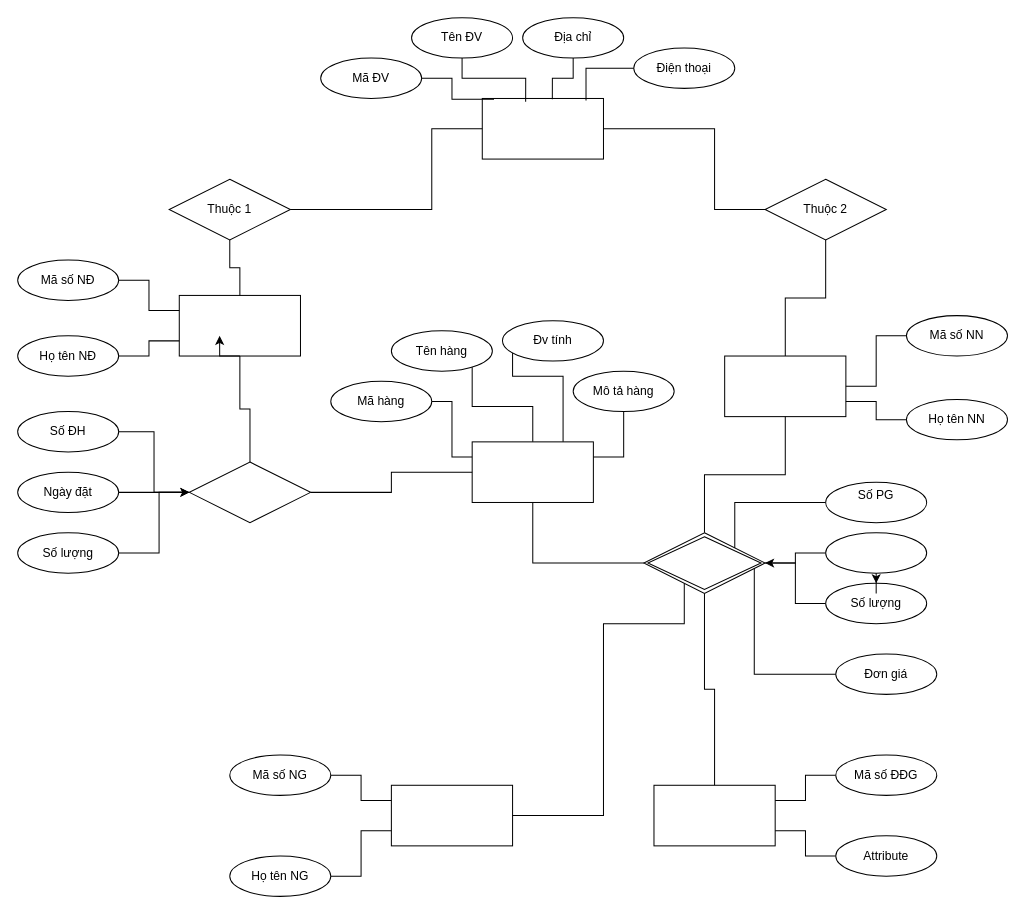
This 1025x914 diagram has some shape labels left out. Here are the shapes that lost their labels. From the top down, the centre of each, then its label:
At (542,128): "ĐƠN VỊ KHÁCH".
At (239,325): "NGƯỜI ĐẶT".
At (785,386): "NGƯỜI NHẬN".
At (532,471): "HÀNG".
At (249,492): "Đặt".
At (704,562): "Giao".
At (876,552): "Ngày giao".
At (451,815): "NGƯỜI GIAO".
At (714,815): "NƠI GIAO".
